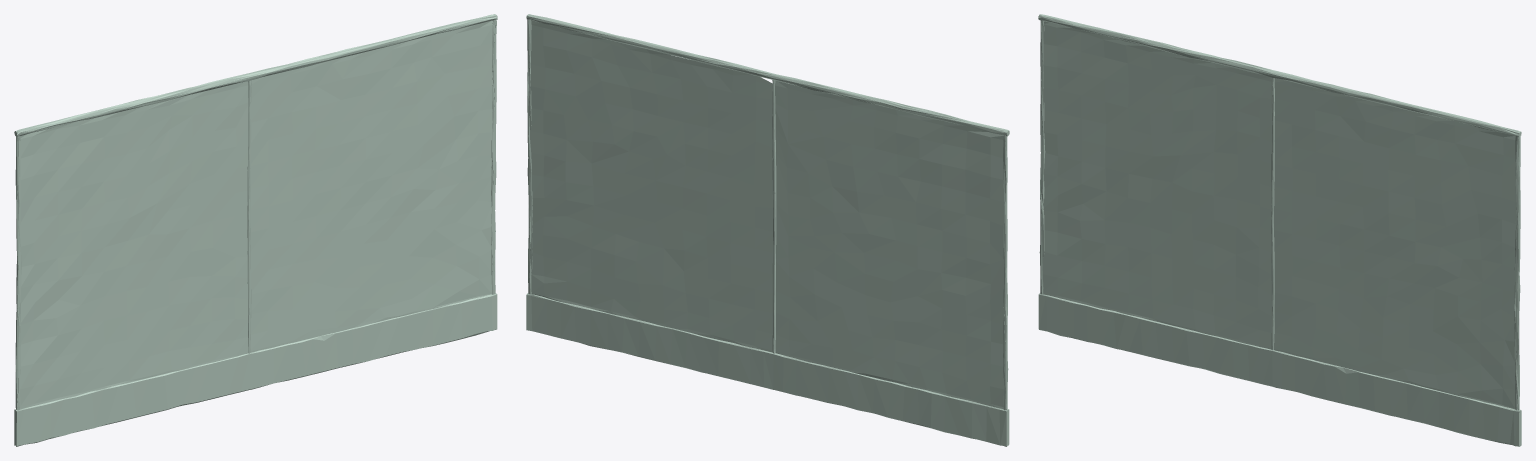
File: gen-balustrade-glass-1.glb
3 views of the same model, side by side, from view 1: azimuth 30°, elevation 25°; view 2: azimuth 150°, elevation 25°; view 3: azimuth 330°, elevation 25° (orthographic).
Parts seen in each view (by area): view 1: gen-balustrade-glass-1_part1; view 2: gen-balustrade-glass-1_part1; view 3: gen-balustrade-glass-1_part1.
Part boxes in pixels (box(x1,y1,x2,y2)): gen-balustrade-glass-1_part1: box(14, 14, 497, 446); gen-balustrade-glass-1_part1: box(526, 14, 1009, 446); gen-balustrade-glass-1_part1: box(1038, 14, 1521, 446).
Bounding box in the file's own units: 1744 × 1100 × 20.75.
